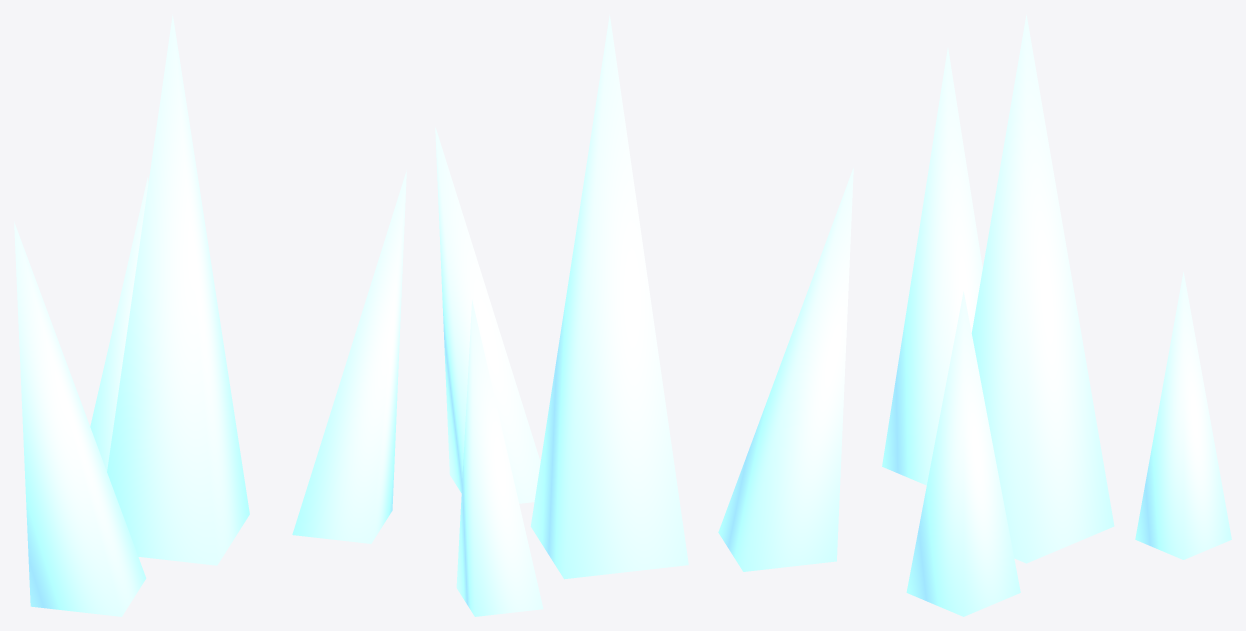
The model's file is SM_cv_crystal_blue.glb.
The picture shows the model from 3 angles, left to right: view 1: azimuth 30°, elevation 25°; view 2: azimuth 150°, elevation 25°; view 3: azimuth 270°, elevation 25°; orthographic projection. The views are drawn at different scales.
Visible parts, largest first — view 1: SM_cv_crystal_blue; view 2: SM_cv_crystal_blue; view 3: SM_cv_crystal_blue.
Part boxes in pixels (left/top/right/bottom): SM_cv_crystal_blue: left=14, top=14, right=406, bottom=616; SM_cv_crystal_blue: left=435, top=14, right=853, bottom=616; SM_cv_crystal_blue: left=882, top=14, right=1231, bottom=616.
Size of the model in its own units: 1.45 by 1.8 by 1.11.
